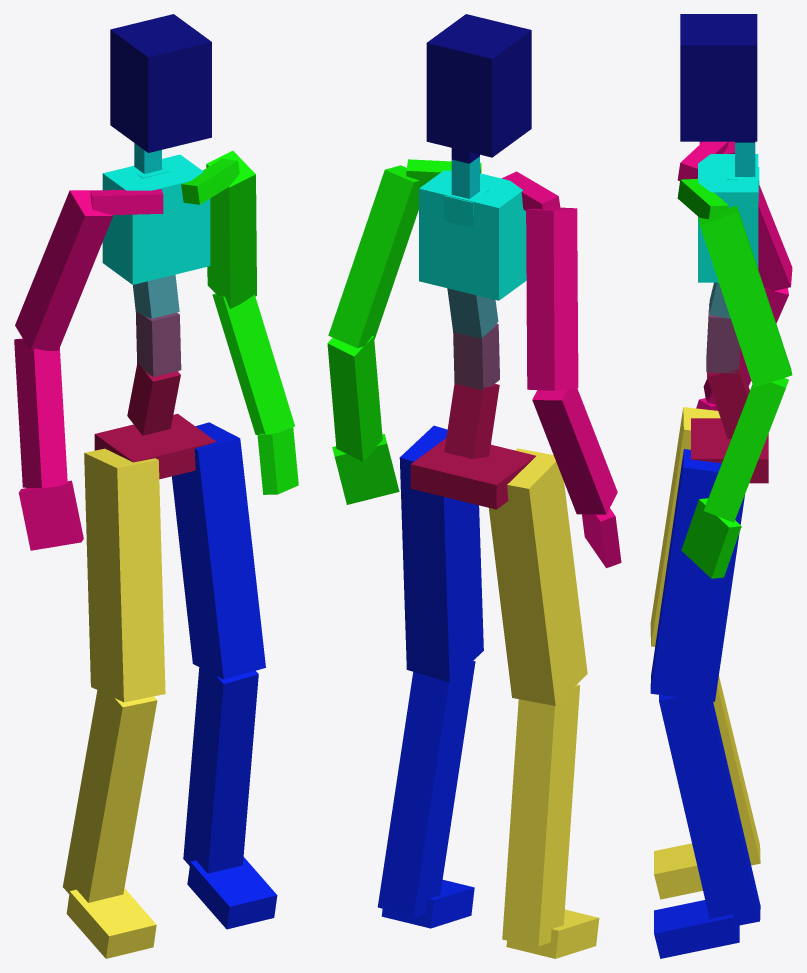
File: BaseHuman.fbx
3 renders of one model, left to right at view 1: azimuth 30°, elevation 25°; view 2: azimuth 150°, elevation 25°; view 3: azimuth 270°, elevation 25°, orthographic. The views are drawn at different scales.
Parts seen in each view (by area): view 1: Base HumanRThigh, Base HumanLThigh, Base HumanRCalf, Base HumanHead, Base HumanLCalf, Base HumanRibcage, Base HumanRUpperarm, Base HumanRForearm, Base HumanLUpperarm, Base HumanLForearm, Base HumanRFoot, Base HumanLFoot (+9 smaller); view 2: Base HumanRThigh, Base HumanLThigh, Base HumanRCalf, Base HumanLCalf, Base HumanHead, Base HumanRibcage, Base HumanRUpperarm, Base HumanLUpperarm, Base HumanRForearm, Base HumanLForearm, Base HumanPelvis, Base HumanSpine1 (+10 smaller); view 3: Base HumanLCalf, Base HumanLThigh, Base HumanHead, Base HumanLUpperarm, Base HumanLForearm, Base HumanRibcage, Base HumanLFoot, Base HumanLPalm, Base HumanRCalf, Base HumanRThigh, Base HumanRUpperarm, Base HumanRFoot (+8 smaller).
Part boxes in pixels (x1,y1,x2,y2): Base HumanRThigh: (84,448,165,702); Base HumanLThigh: (172,422,265,679); Base HumanRCalf: (62,690,157,902); Base HumanHead: (110,14,211,152); Base HumanLCalf: (183,667,258,873); Base HumanRibcage: (102,154,210,284); Base HumanRUpperarm: (15,190,112,350); Base HumanRForearm: (14,338,67,488); Base HumanLUpperarm: (206,150,256,308); Base HumanLForearm: (212,293,294,434); Base HumanRFoot: (66,888,156,958); Base HumanLFoot: (187,857,277,929); Base HumanRThigh: (489,448,587,705); Base HumanLThigh: (399,425,483,682); Base HumanRCalf: (502,684,580,946); Base HumanLCalf: (377,661,475,917); Base HumanHead: (426,14,531,157); Base HumanRibcage: (419,170,526,300); Base HumanRUpperarm: (526,207,578,390); Base HumanLUpperarm: (328,165,419,348); Base HumanRForearm: (532,388,617,514); Base HumanLForearm: (327,335,382,461); Base HumanPelvis: (410,438,535,509); Base HumanSpine1: (444,383,499,459); Base HumanLCalf: (659,695,760,925); Base HumanLThigh: (650,449,744,701); Base HumanHead: (680,14,757,141); Base HumanLUpperarm: (698,205,792,387); Base HumanLForearm: (704,378,788,522); Base HumanRibcage: (698,154,758,282); Base HumanLFoot: (654,900,739,958); Base HumanLPalm: (681,498,741,578); Base HumanRCalf: (713,676,760,865); Base HumanRThigh: (650,407,720,646); Base HumanRUpperarm: (699,141,792,291); Base HumanRFoot: (654,843,702,899).
Bounding box in the file's own units: 26.16 × 80.29 × 11.64.
